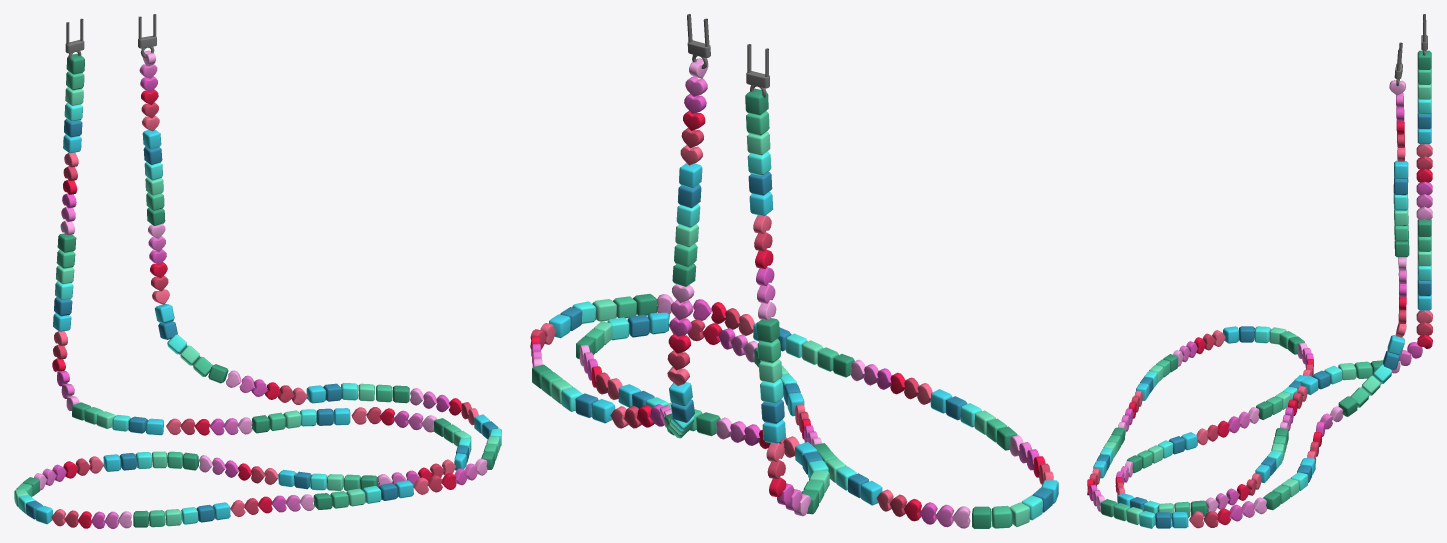
Rendered from strap1.fbx.
The picture shows the model from 3 angles, left to right: view 1: azimuth 30°, elevation 25°; view 2: azimuth 150°, elevation 25°; view 3: azimuth 270°, elevation 25°; orthographic projection. The views are drawn at different scales.
Visible parts, largest first — view 1: Strap01.001; view 2: Strap01.001; view 3: Strap01.001.
Boxes of the visible parts, x1,y1,x2,y2 form: Strap01.001: [14, 14, 501, 528]; Strap01.001: [530, 14, 1058, 528]; Strap01.001: [1087, 14, 1432, 528].
Size of the model in its own units: 454 by 408 by 330.
